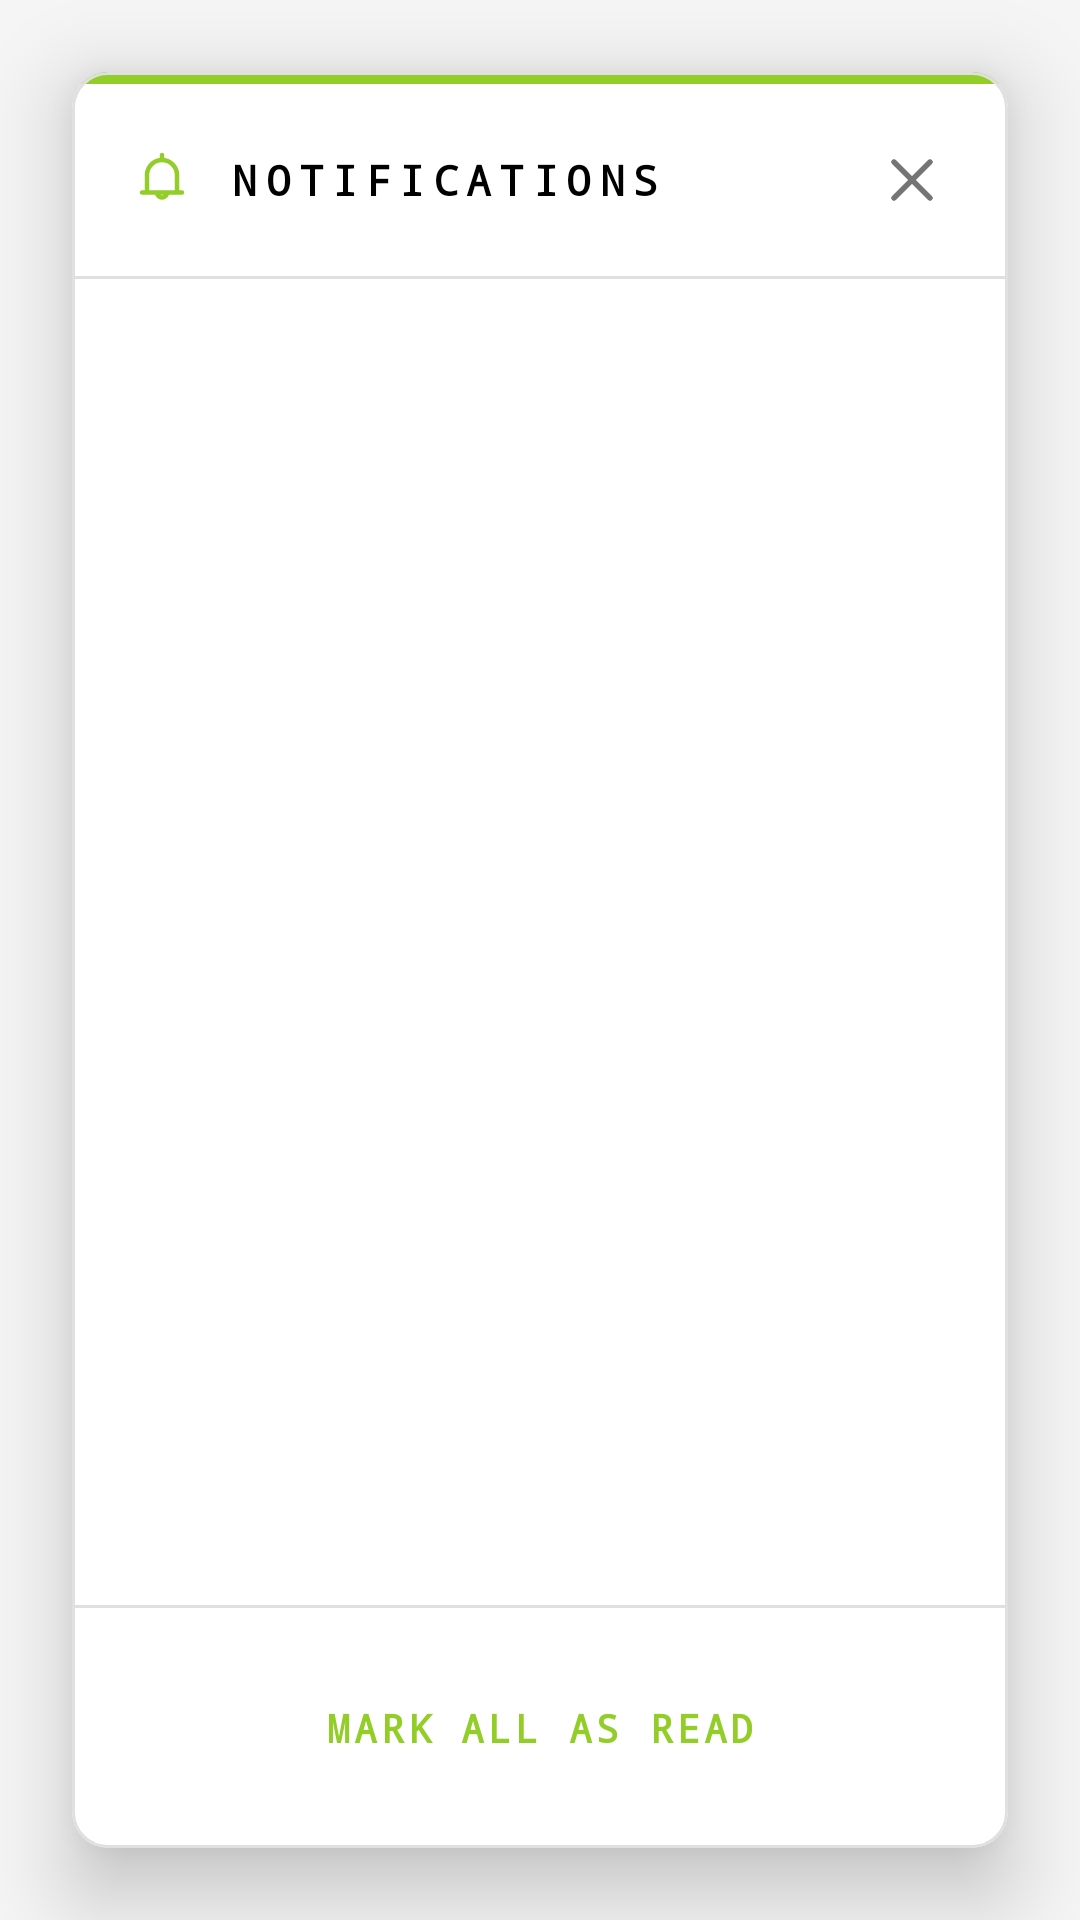

Locate icon controls on the screen. Image size 1080px x 1920px, boxes as detection(x1, y1, x2, y2).
close: detection(891, 159, 933, 201)
